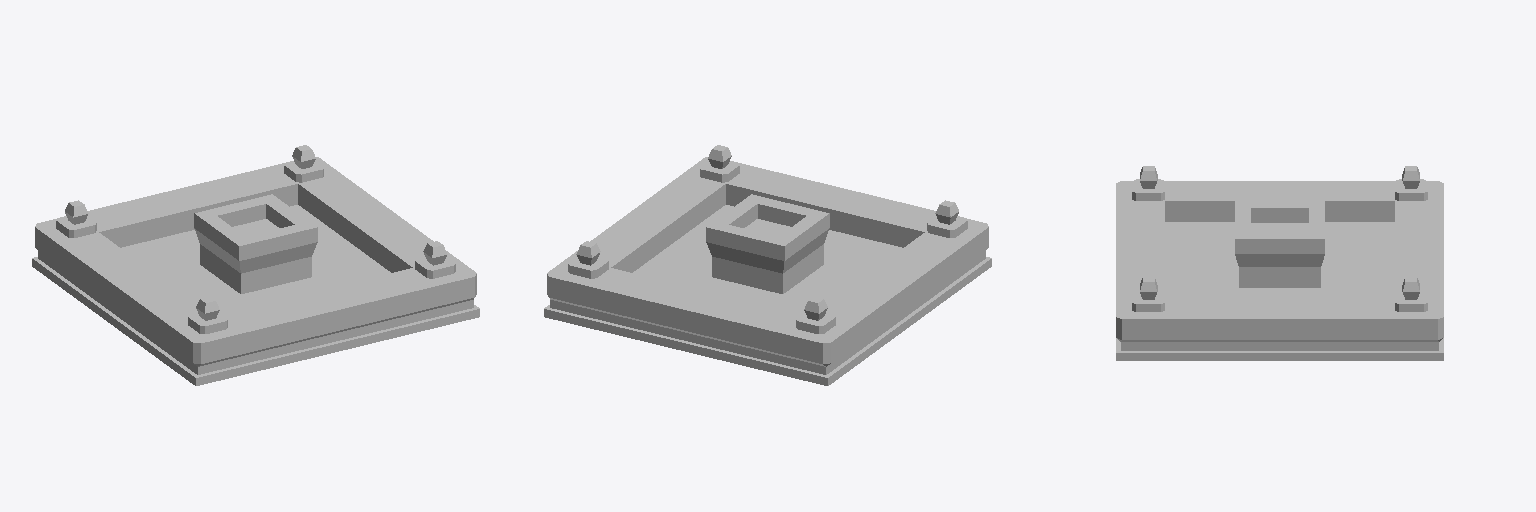
Rendered from fountain-square-detail.obj.
3 views of the same model, side by side, from view 1: azimuth 30°, elevation 25°; view 2: azimuth 150°, elevation 25°; view 3: azimuth 270°, elevation 25° (orthographic).
Visible parts, largest first — view 1: fountain-square-detail, (%ignore); view 2: fountain-square-detail, (%ignore); view 3: fountain-square-detail, (%ignore).
Boxes of the visible parts, box(x1,y1,x2,y2) form: fountain-square-detail: box(32, 145, 479, 385); (%ignore): box(121, 205, 390, 313); fountain-square-detail: box(544, 145, 991, 385); (%ignore): box(633, 205, 902, 313); fountain-square-detail: box(1116, 166, 1443, 360); (%ignore): box(1165, 222, 1394, 298).
Bounding box in the file's own units: 2 × 0.48 × 2.